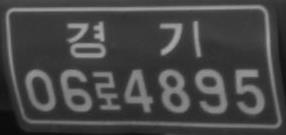0: (23, 66, 57, 112)
4: (123, 68, 154, 114)
5: (233, 67, 265, 116)
6: (59, 67, 93, 113)
8: (156, 67, 192, 115)
9: (193, 67, 229, 116)
경기_D: (65, 19, 203, 59)
로: (94, 69, 122, 111)
